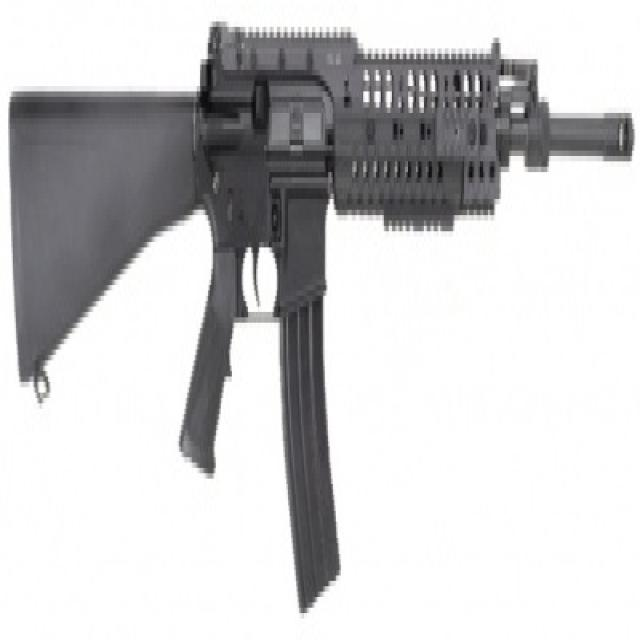rifle: (6, 6, 640, 640)
